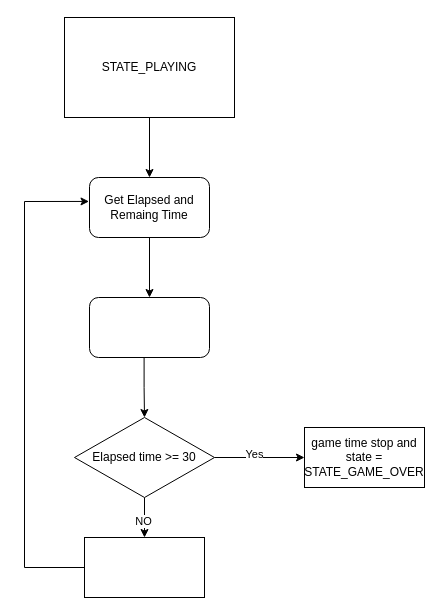
Image size: 442x615. Some labels were removed from this diagram. Here are the shapes that lost their labels. From the top down, the centre of each, then its label:
At (149,327): "Update LCD".
At (144,567): "Update LEDs and handle Servo and fire button".
